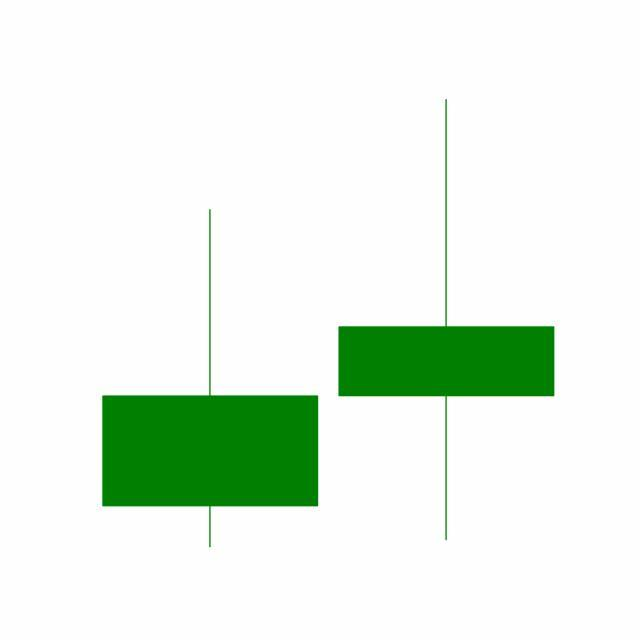Spinning Top: (328, 95, 566, 546)
